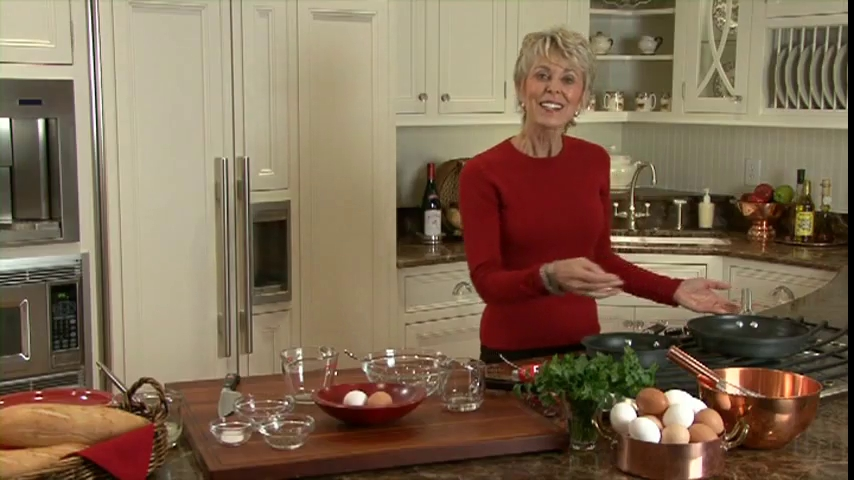person: (459, 29, 743, 362)
